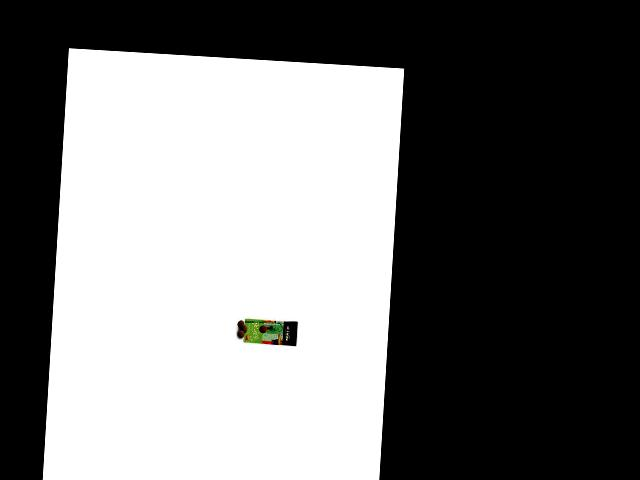chocolate: (242, 312, 300, 349)
